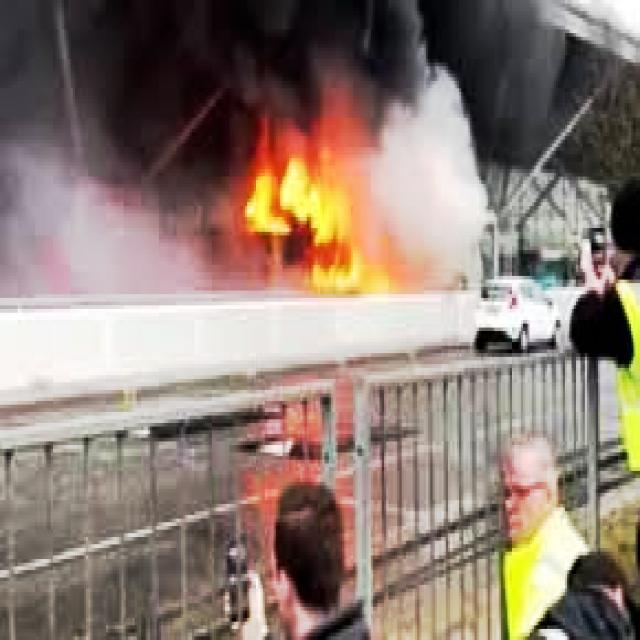api: (235, 90, 416, 307)
